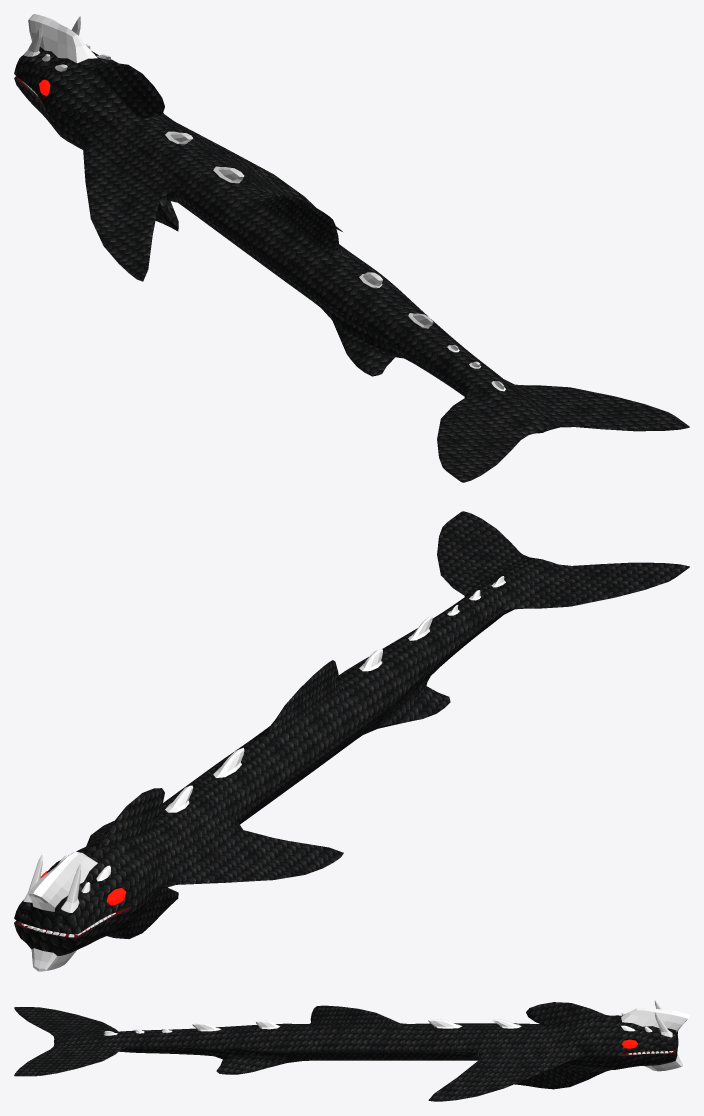
The model's file is LakeMonster4.fbx.
The picture shows the model from 3 angles, top to bottom: view 1: azimuth 30°, elevation 25°; view 2: azimuth 150°, elevation 25°; view 3: azimuth 270°, elevation 25°; orthographic projection. The views are drawn at different scales.
Visible parts, largest first — view 1: PotwórG; view 2: PotwórG; view 3: PotwórG.
Part boxes in pixels (<box>): PotwórG: <box>14,14,689,482</box>; PotwórG: <box>14,511,689,971</box>; PotwórG: <box>14,1000,689,1101</box>.
Bounding box in the file's own units: 600 × 352 × 2474.
